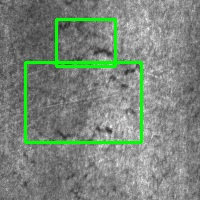crazing: (26, 63, 141, 142), (56, 19, 115, 66)
